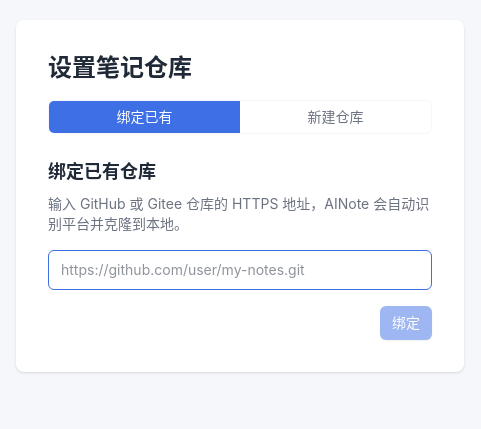
SetupPage 缺少平台凭证时补登录 › 先登录该平台，再回到绑定表单并保留地址
This screenshot has width=481, height=429.
In the field with placeholder "https://github.com/user/my-notes.git": (240, 270) x1=48 y1=250 x2=432 y2=290, type "https://github.com/u/r.git"
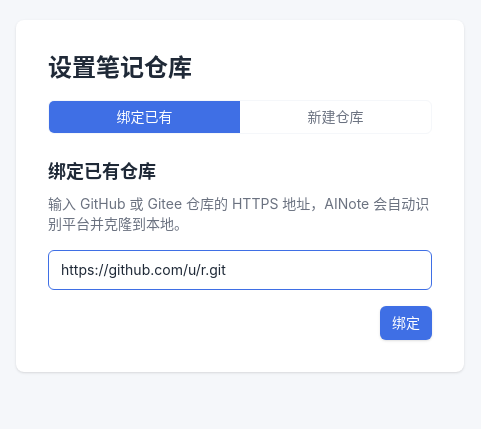
Click the button "绑定": (406, 323) x1=380 y1=306 x2=432 y2=340
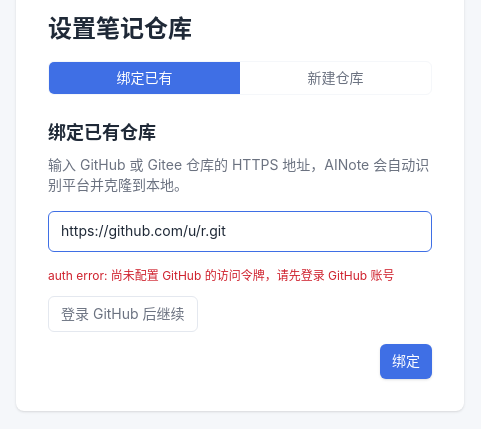
Result: the text "auth error: 尚未配置 GitHub 的访问令牌，请先登录 GitHub 账号" is shown at x1=48 y1=268 x2=432 y2=284
Click the button "登录 GitHub 后继续": (123, 314) x1=48 y1=296 x2=198 y2=332
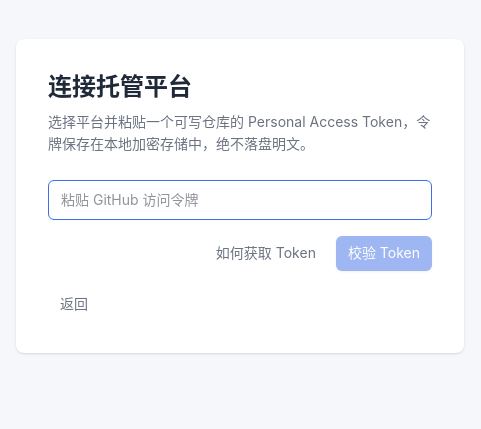
In the password field with placeholder "粘贴 GitHub 访问令牌": (240, 200) x1=48 y1=180 x2=432 y2=220, type "ghp_x"
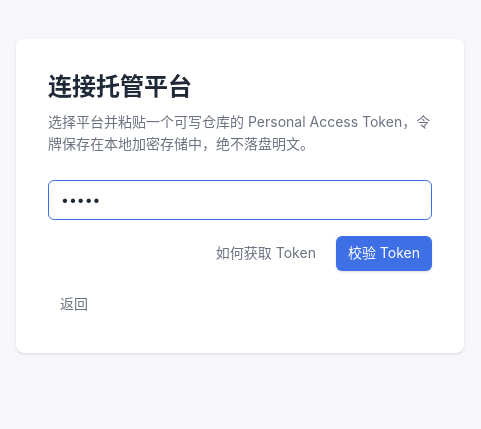
Click the button "校验 Token": (384, 253) x1=336 y1=236 x2=432 y2=271
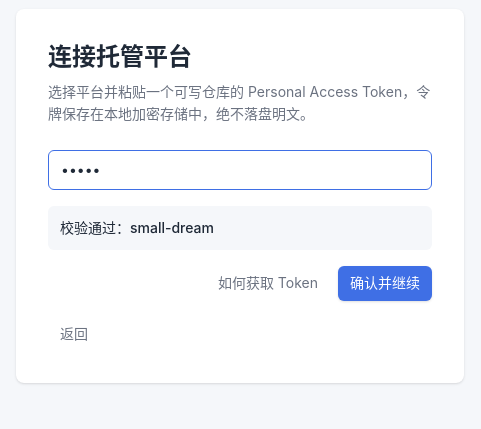
Result: the text "small-dream" is shown at x1=130 y1=219 x2=214 y2=236
Click the button "确认并继续": (385, 283) x1=338 y1=266 x2=432 y2=301
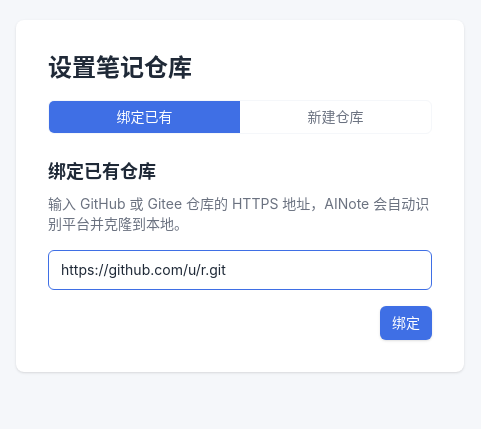
Result: the field with placeholder "https://github.com/user/my-notes.git" holds "https://github.com/u/r.git" at x1=48 y1=250 x2=432 y2=290
